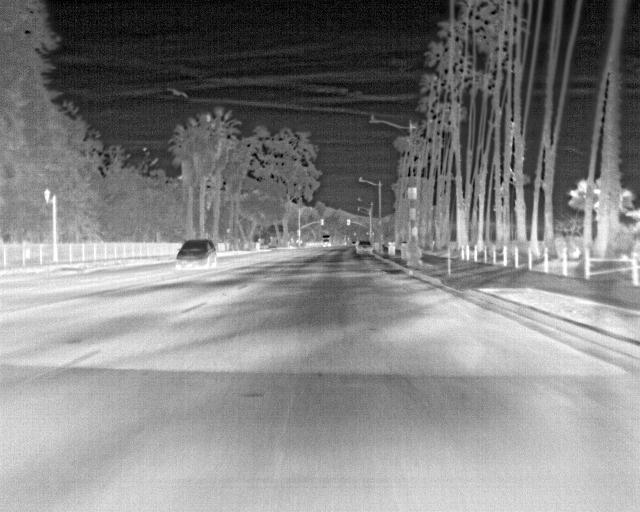car: (176, 238, 216, 269), (354, 239, 373, 254), (318, 233, 333, 245)
